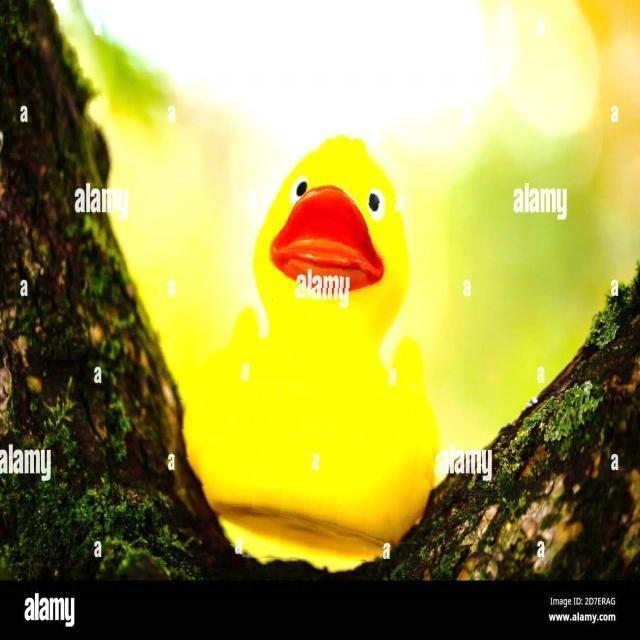rubber-duck: (184, 136, 435, 568)
